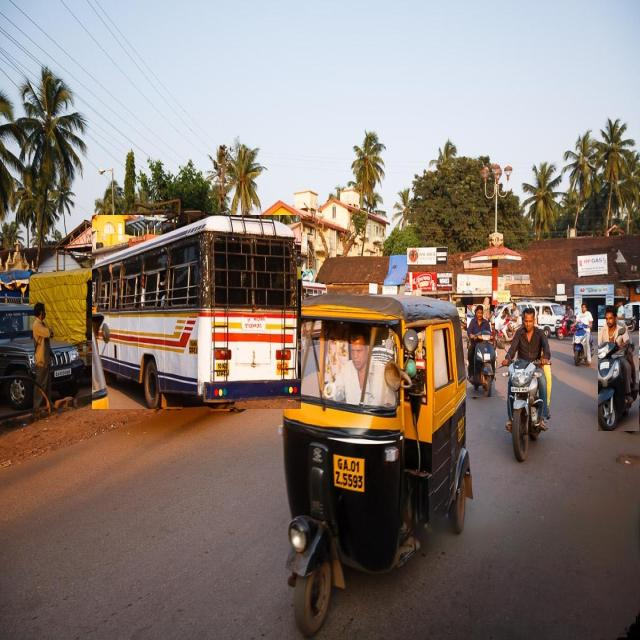autorickshaw: (284, 294, 472, 634)
bus: (92, 215, 301, 409)
motorcycle: (502, 306, 550, 460), (599, 306, 639, 431), (468, 305, 495, 397), (571, 304, 592, 366)
